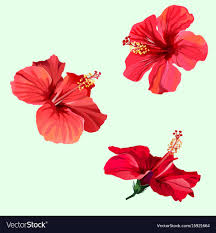hybiscus: (12, 57, 107, 144)
